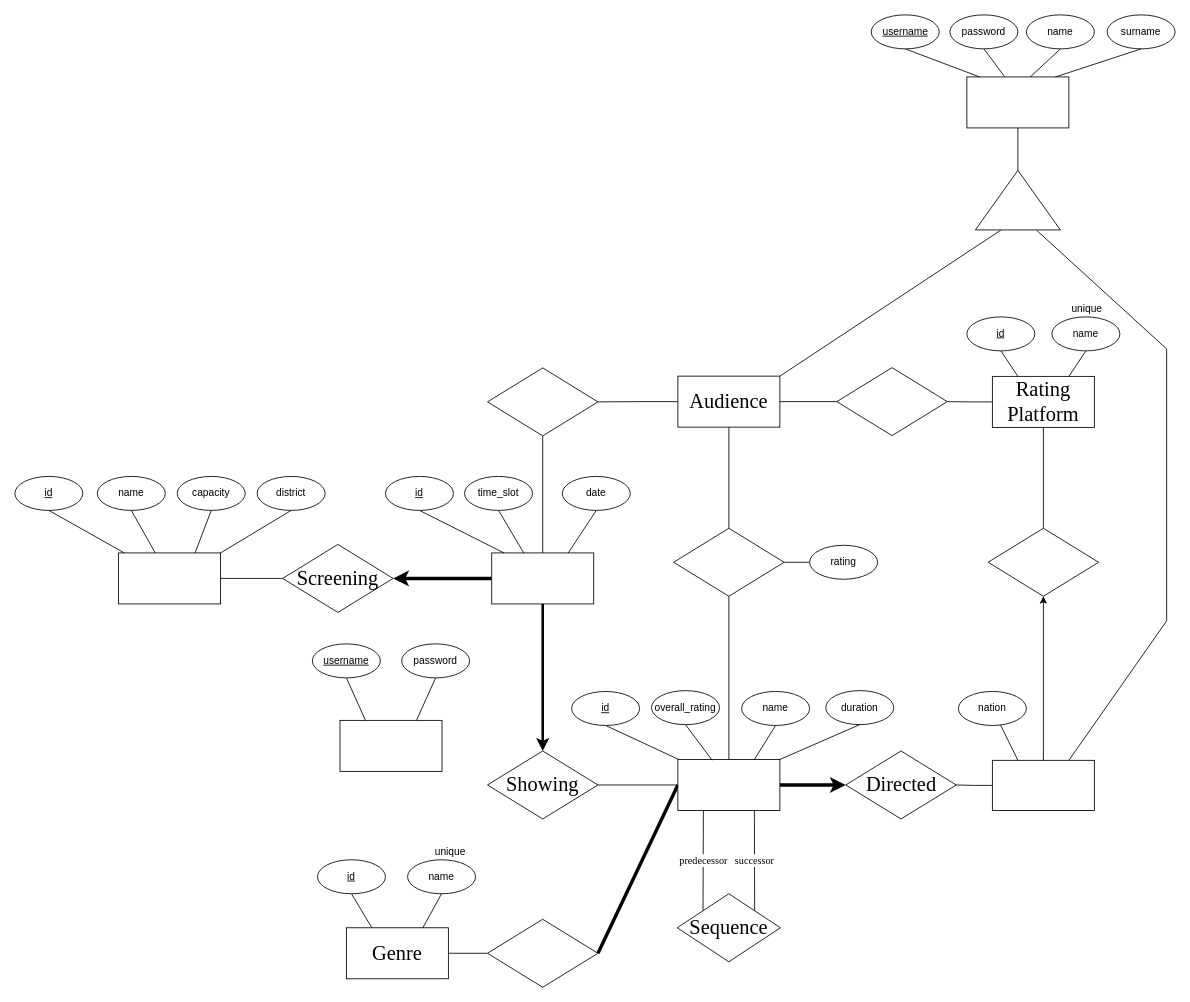
Image size: 1190x1002. Some labels were removed from this diagram. The shapes that lost their labels are listed below. From the top down, each one's box as (x1, y1, x2, y2) in pixels, then its label:
(966, 76, 1069, 128): User
(975, 170, 1060, 230): ISA
(487, 367, 598, 436): Ticket
(836, 367, 947, 436): Subscribe
(118, 552, 221, 604): Theater
(491, 552, 594, 604): Movie Session
(673, 527, 784, 596): Rate
(987, 527, 1099, 596): On
(339, 720, 442, 771): Database Manager
(677, 759, 780, 810): Movie
(992, 759, 1094, 810): Director
(487, 918, 598, 987): Category
